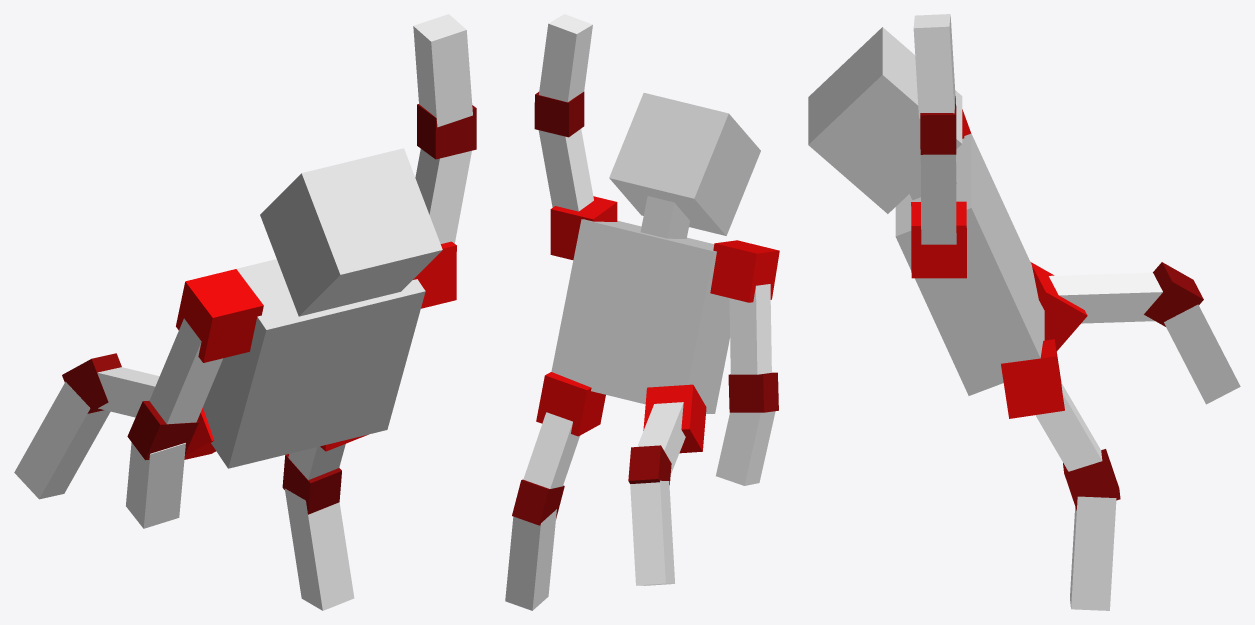
3 renders of one model, left to right at view 1: azimuth 30°, elevation 25°; view 2: azimuth 150°, elevation 25°; view 3: azimuth 270°, elevation 25°, orthographic. The views are drawn at different scales.
Parts seen in each view (by area): view 1: torso, skull, forearm (×4), arm (×4), shoulder (×3), elbow (×4); view 2: torso, forearm (×4), skull, arm (×4), shoulder (×4), elbow (×4), neck; view 3: torso, skull, forearm (×3), arm (×3), shoulder (×3), elbow (×3).
Boxes of the visible parts, x1,y1,x2,y2 form: torso: [203, 259, 425, 468]; skull: [260, 148, 442, 316]; forearm (×4): [14, 14, 472, 610]; arm (×4): [97, 149, 471, 480]; shoulder (×3): [176, 241, 456, 459]; elbow (×4): [62, 104, 476, 514]; torso: [551, 219, 729, 413]; forearm (×4): [505, 14, 775, 610]; skull: [609, 93, 760, 235]; arm (×4): [523, 129, 771, 488]; shoulder (×4): [536, 196, 779, 453]; elbow (×4): [512, 92, 778, 525]; neck: [640, 196, 689, 238]; torso: [895, 133, 1044, 395]; skull: [808, 27, 962, 213]; forearm (×3): [913, 14, 1240, 610]; arm (×3): [920, 154, 1162, 471]; shoulder (×3): [911, 201, 1087, 418]; elbow (×3): [920, 96, 1203, 510].
Size of the model in its own units: 2.37 by 4.71 by 3.06.
